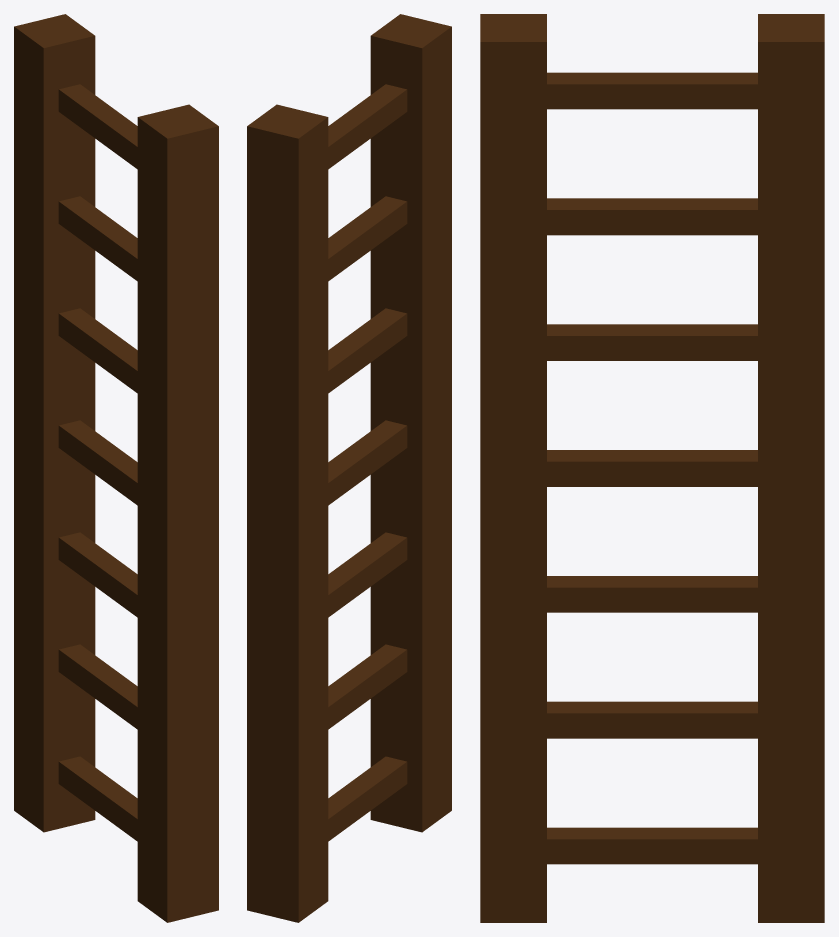
File: Ladder.fbx
The picture shows the model from 3 angles, left to right: view 1: azimuth 30°, elevation 25°; view 2: azimuth 150°, elevation 25°; view 3: azimuth 270°, elevation 25°; orthographic projection. The views are drawn at different scales.
Visible parts, largest first — view 1: Cube.001; view 2: Cube.001; view 3: Cube.001.
Boxes of the visible parts, bbox=[...] form: Cube.001: bbox=[14, 14, 218, 922]; Cube.001: bbox=[247, 14, 451, 922]; Cube.001: bbox=[480, 14, 824, 922].
Size of the model in its own units: 48 by 700 by 248.
